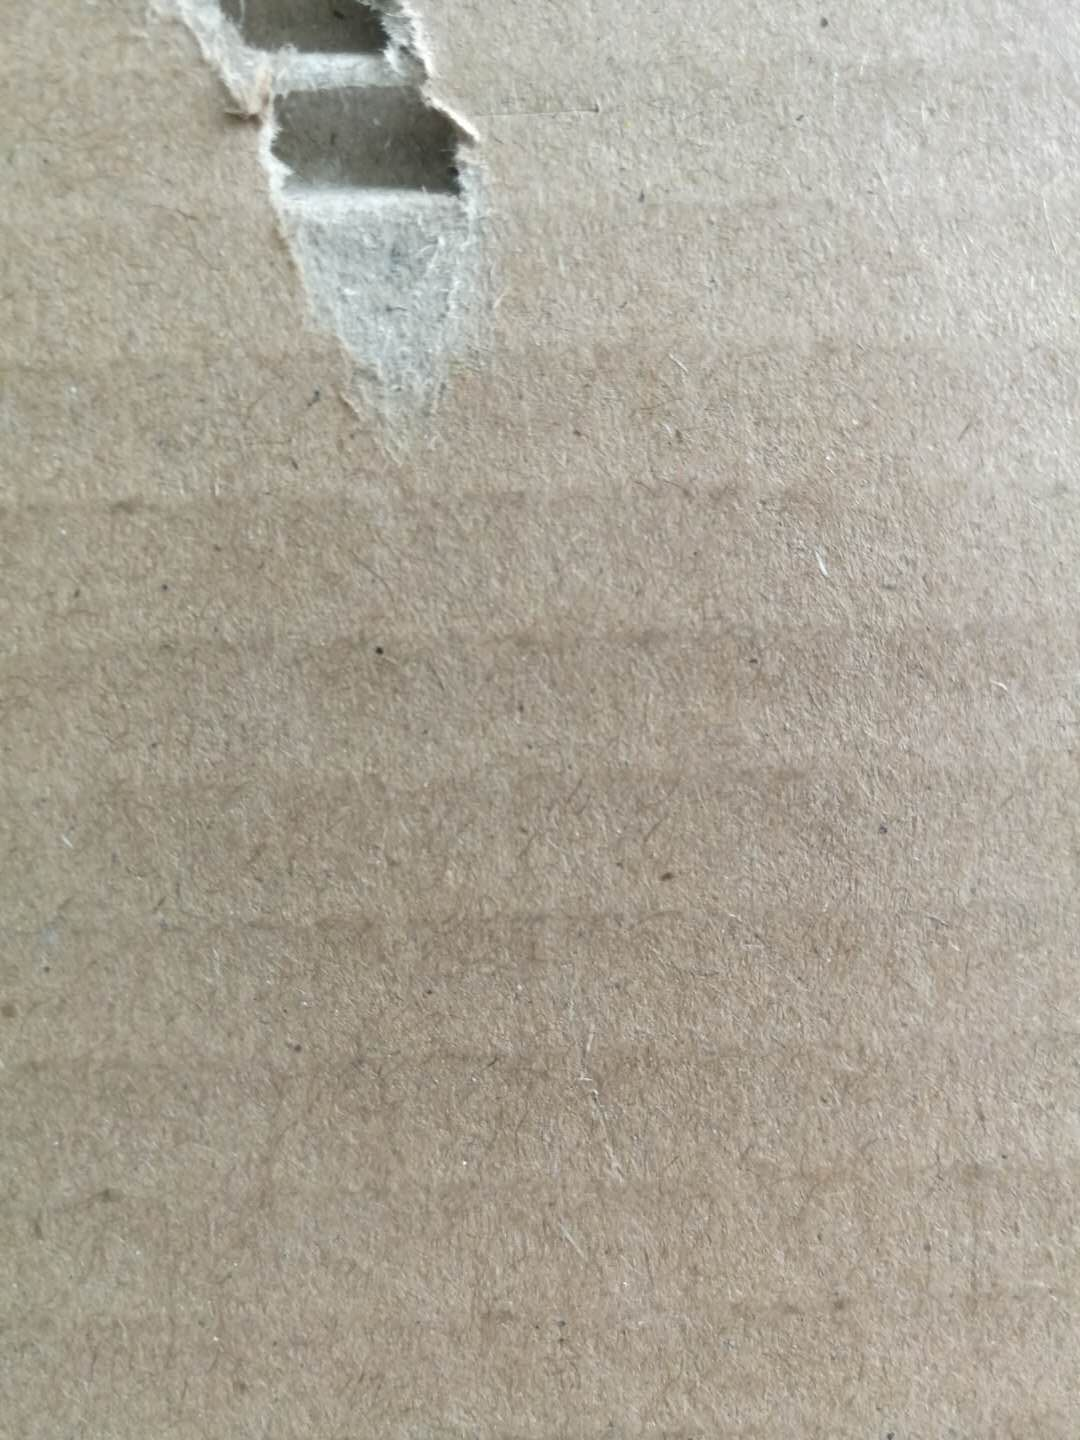defect: (134, 1, 551, 482)
